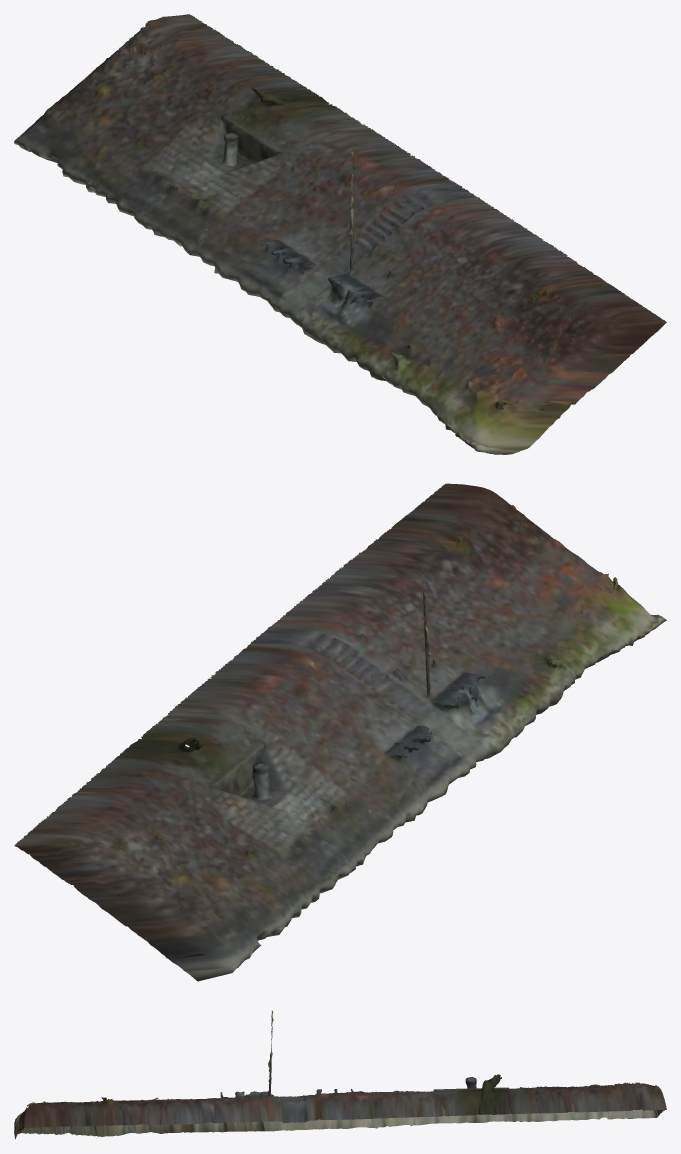
The model's file is run4_p3_c14.glb.
3 views of the same model, one above another, from view 1: azimuth 30°, elevation 25°; view 2: azimuth 150°, elevation 25°; view 3: azimuth 270°, elevation 25° (orthographic). The views are drawn at different scales.
Visible parts, largest first — view 1: run4_p3_straight_c14; view 2: run4_p3_straight_c14; view 3: run4_p3_straight_c14.
Part boxes in pixels (x1,y1,x2,y2): run4_p3_straight_c14: (14, 14, 666, 454); run4_p3_straight_c14: (14, 483, 666, 981); run4_p3_straight_c14: (14, 1010, 666, 1139).
Bounding box in the file's own units: 9.34 × 6.74 × 30.42.
1 material, 1 textured.
